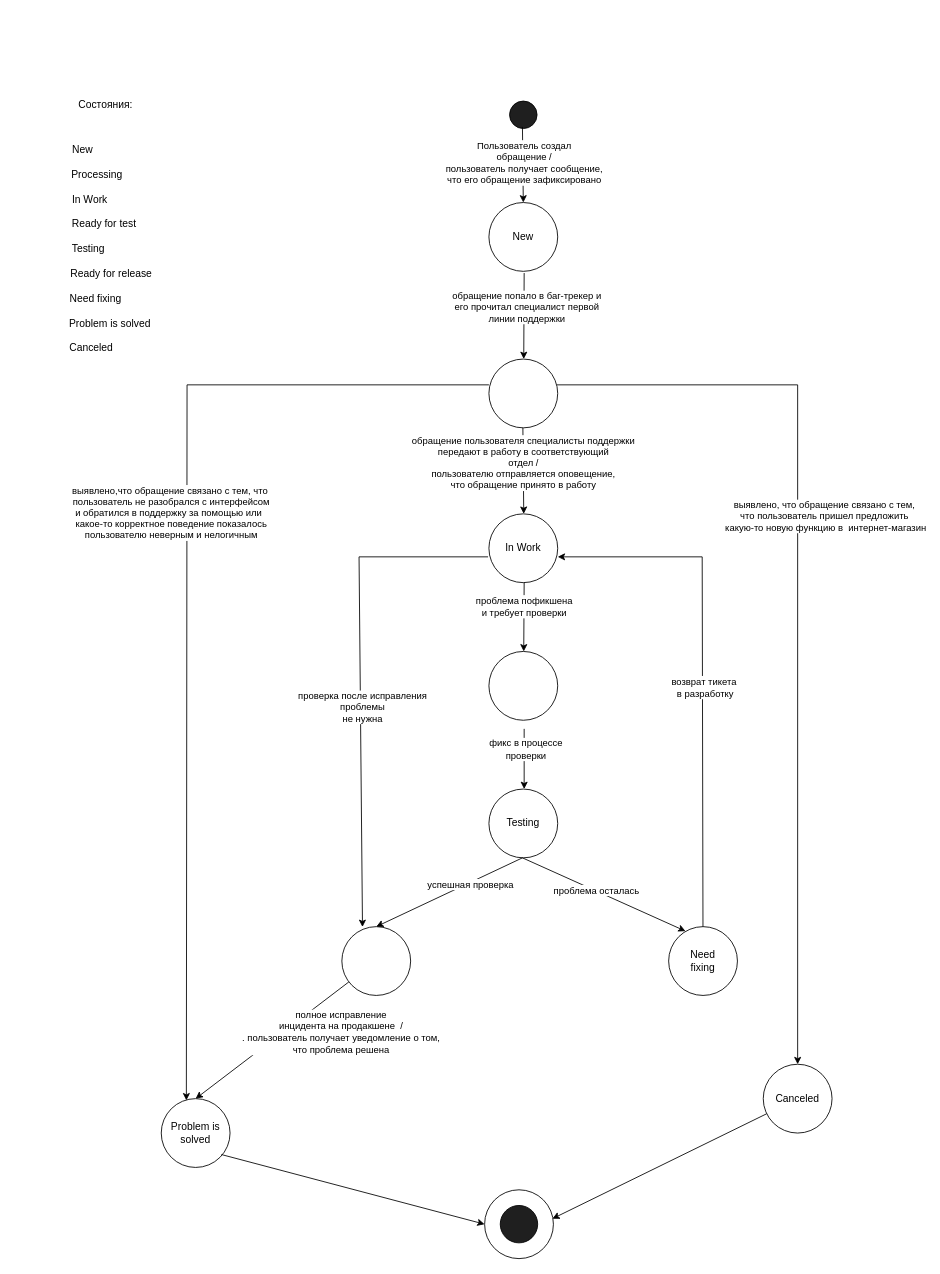
This 940x1274 diagram has some shape labels left out. Each missing label, with the centre of its shape:
Processing: point 523,393
Ready for release: point 376,960
Ready for test: point 523,685
